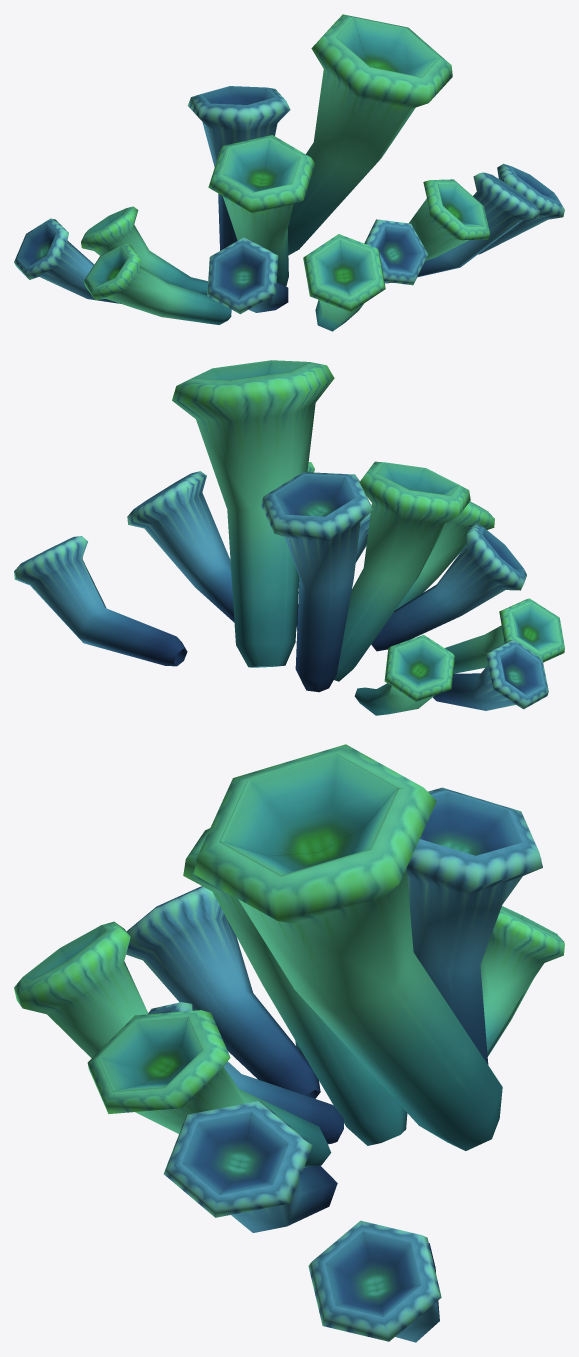
File: Coral_14d.FBX
3 views of the same model, one above another, from view 1: azimuth 30°, elevation 25°; view 2: azimuth 150°, elevation 25°; view 3: azimuth 270°, elevation 25° (orthographic). The views are drawn at different scales.
Visible parts, largest first — view 1: Coral_14d; view 2: Coral_14d; view 3: Coral_14d.
Part boxes in pixels (<box>): Coral_14d: <box>14,14,564,331</box>; Coral_14d: <box>14,360,564,715</box>; Coral_14d: <box>14,744,564,1342</box>.
Size of the model in its own units: 34.28 by 17.51 by 19.12.
